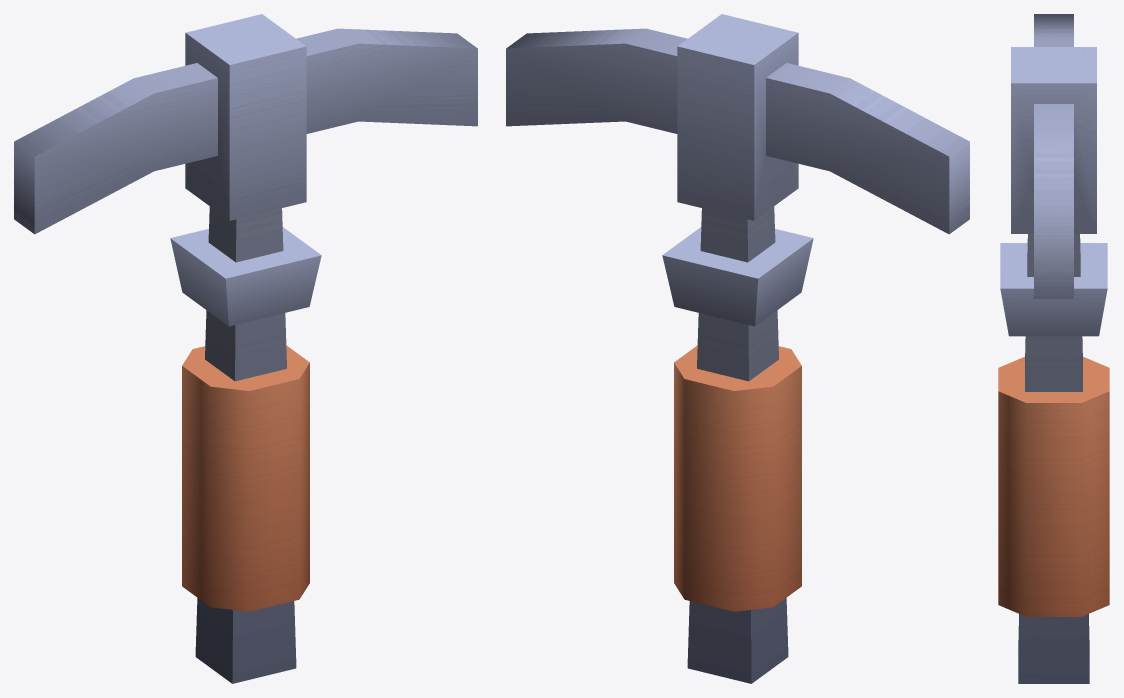
Rendered from tool-pickaxe-upgraded.glb.
3 views of the same model, side by side, from view 1: azimuth 30°, elevation 25°; view 2: azimuth 150°, elevation 25°; view 3: azimuth 270°, elevation 25° (orthographic). The views are drawn at different scales.
Visible parts, largest first — view 1: tool-pickaxe-upgraded; view 2: tool-pickaxe-upgraded; view 3: tool-pickaxe-upgraded.
Part boxes in pixels (left/top/right/bottom): tool-pickaxe-upgraded: left=14, top=14, right=477, bottom=683; tool-pickaxe-upgraded: left=506, top=14, right=969, bottom=683; tool-pickaxe-upgraded: left=998, top=14, right=1109, bottom=683.
Bounding box in the file's own units: 0.1786 × 0.24 × 0.04.
1 material, 1 textured.
